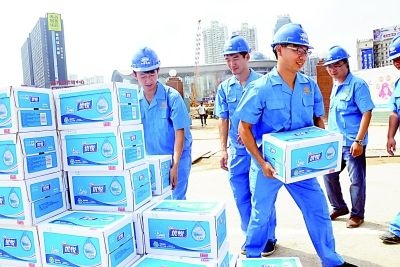blue: (271, 23, 310, 72), (130, 45, 161, 91), (221, 33, 250, 75), (321, 44, 350, 81)
